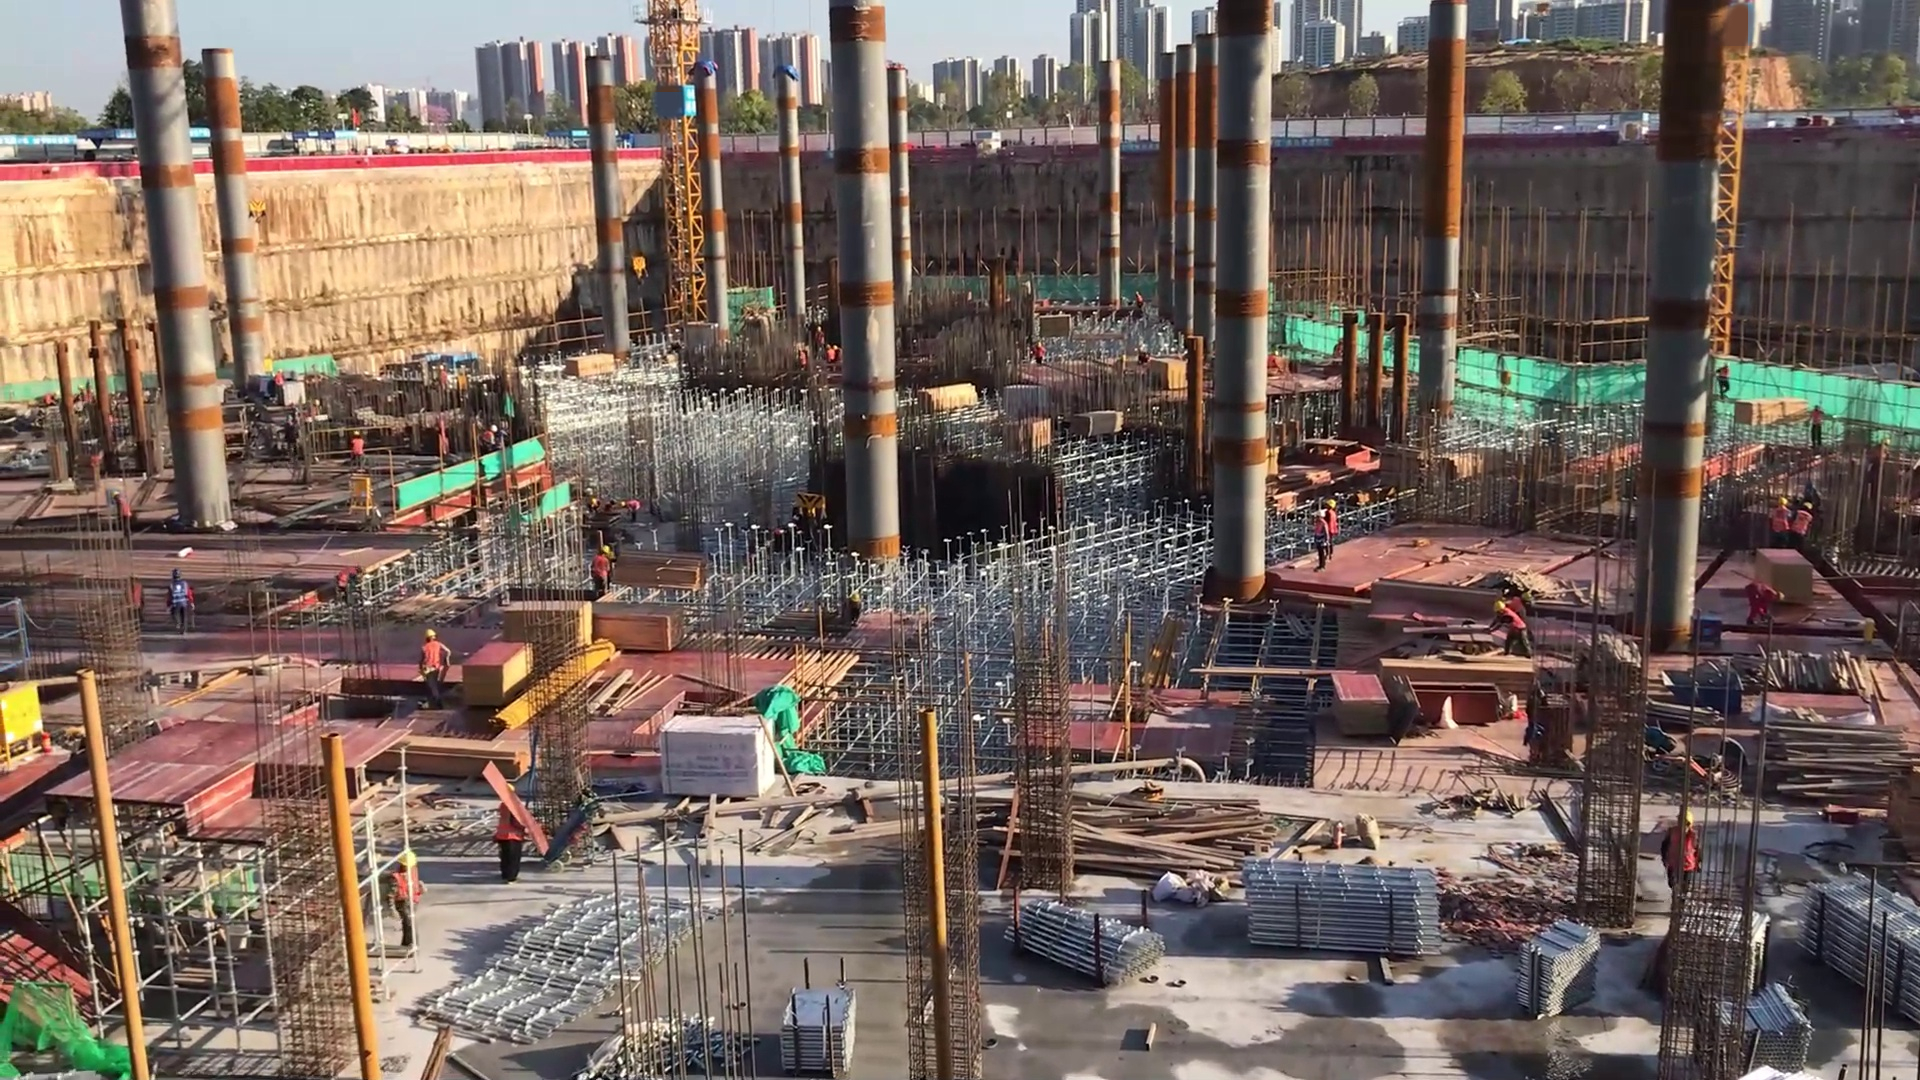board: (501, 596, 595, 662), (464, 639, 534, 707), (1329, 667, 1393, 740)
ebox: (1, 664, 61, 761), (340, 470, 379, 524)
helmet: (1665, 825, 1706, 883), (1792, 508, 1812, 542), (395, 848, 419, 871), (1773, 505, 1791, 537), (1675, 810, 1697, 834), (1758, 584, 1775, 606), (422, 629, 441, 646), (1492, 598, 1508, 616), (170, 566, 185, 586), (597, 543, 612, 560), (111, 487, 125, 503), (1799, 500, 1817, 511), (1779, 494, 1789, 510), (1776, 587, 1785, 603), (1315, 510, 1327, 522), (1326, 499, 1337, 511), (352, 430, 363, 440), (1520, 591, 1530, 601), (620, 498, 628, 510), (491, 423, 499, 434)
hook: (1666, 669, 1756, 723), (623, 252, 655, 287), (250, 194, 275, 223)
person: (1648, 804, 1710, 910), (493, 763, 541, 893), (391, 843, 429, 951), (1485, 592, 1535, 660), (415, 625, 451, 711), (1737, 578, 1784, 634), (159, 570, 195, 633), (1706, 355, 1744, 407), (344, 420, 377, 480), (111, 483, 137, 558), (1150, 353, 1191, 396), (1307, 510, 1335, 572), (1767, 487, 1793, 551), (1793, 492, 1820, 556), (588, 542, 615, 594), (1807, 401, 1830, 451), (333, 560, 365, 595), (576, 487, 603, 524), (619, 495, 644, 524), (1326, 492, 1338, 552), (479, 423, 499, 456), (1031, 336, 1047, 368), (833, 342, 848, 365), (1132, 288, 1147, 308), (817, 321, 825, 351), (826, 343, 835, 367)
scaffold: (1238, 851, 1461, 985), (995, 876, 1169, 988), (1793, 881, 1920, 1013), (1501, 914, 1618, 1020), (1720, 981, 1820, 1080)
slogan: (1265, 135, 1330, 151), (1116, 139, 1165, 159)
vest: (389, 865, 423, 918), (496, 799, 525, 851), (1497, 608, 1528, 636), (423, 640, 444, 675), (168, 582, 188, 614), (592, 554, 610, 586)
wood: (1074, 795, 1268, 878), (1757, 715, 1910, 805), (1383, 659, 1544, 699), (398, 739, 533, 778), (584, 602, 691, 652), (606, 550, 707, 593), (1733, 396, 1810, 435), (569, 345, 627, 394), (914, 378, 982, 418), (1892, 765, 1920, 861), (1066, 409, 1130, 444)
